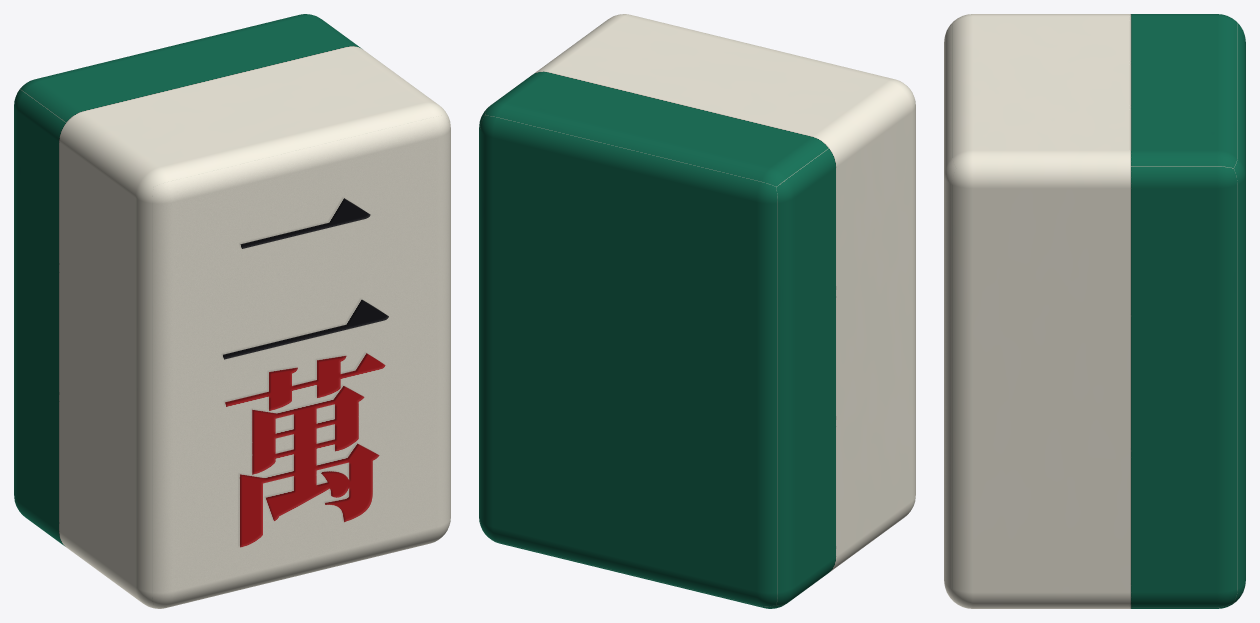
File: tile_2m.obj
3 renders of one model, left to right at view 1: azimuth 30°, elevation 25°; view 2: azimuth 150°, elevation 25°; view 3: azimuth 270°, elevation 25°, orthographic. The views are drawn at different scales.
Parts seen in each view (by area): view 1: tile_2m; view 2: tile_2m; view 3: tile_2m.
Part boxes in pixels (x1=…): tile_2m: x1=14, y1=14, x2=450, y2=608; tile_2m: x1=479, y1=14, x2=915, y2=608; tile_2m: x1=944, y1=14, x2=1245, y2=608.
Size of the model in its own units: 0.026 by 0.035 by 0.021.
Materials: 1 (1 with a texture image).
